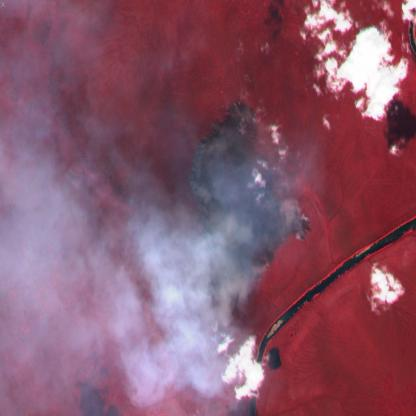fire: (183, 96, 314, 315)
